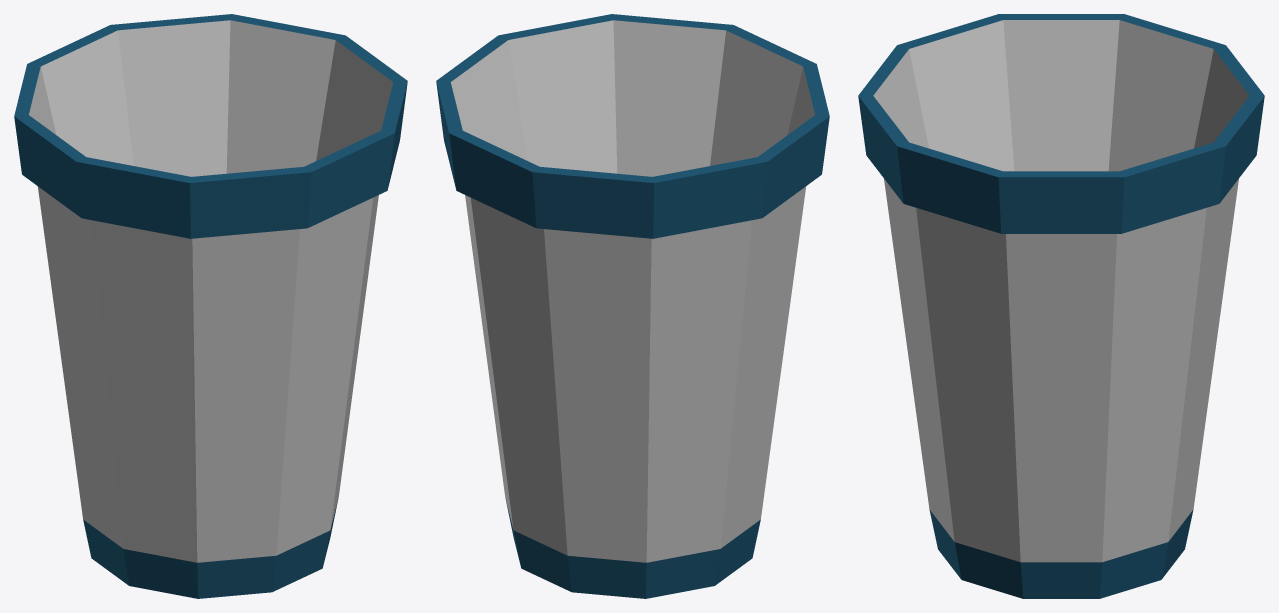
Rendered from PaperCupV2.fbx.
The picture shows the model from 3 angles, left to right: view 1: azimuth 30°, elevation 25°; view 2: azimuth 150°, elevation 25°; view 3: azimuth 270°, elevation 25°; orthographic projection.
Parts seen in each view (by area): view 1: PaperCupV2; view 2: PaperCupV2; view 3: PaperCupV2.
Part boxes in pixels (x1,y1,x2,y2): PaperCupV2: (14, 14, 407, 598); PaperCupV2: (436, 14, 829, 598); PaperCupV2: (858, 14, 1264, 598).
Size of the model in its own units: 14.38 by 18.61 by 15.12.
